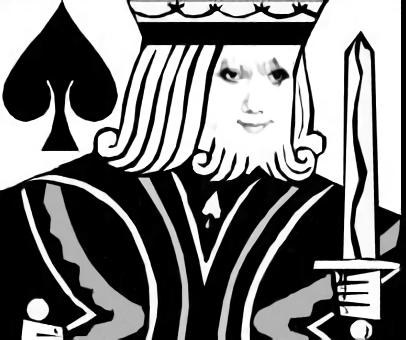dragon: (216, 60, 289, 135)
